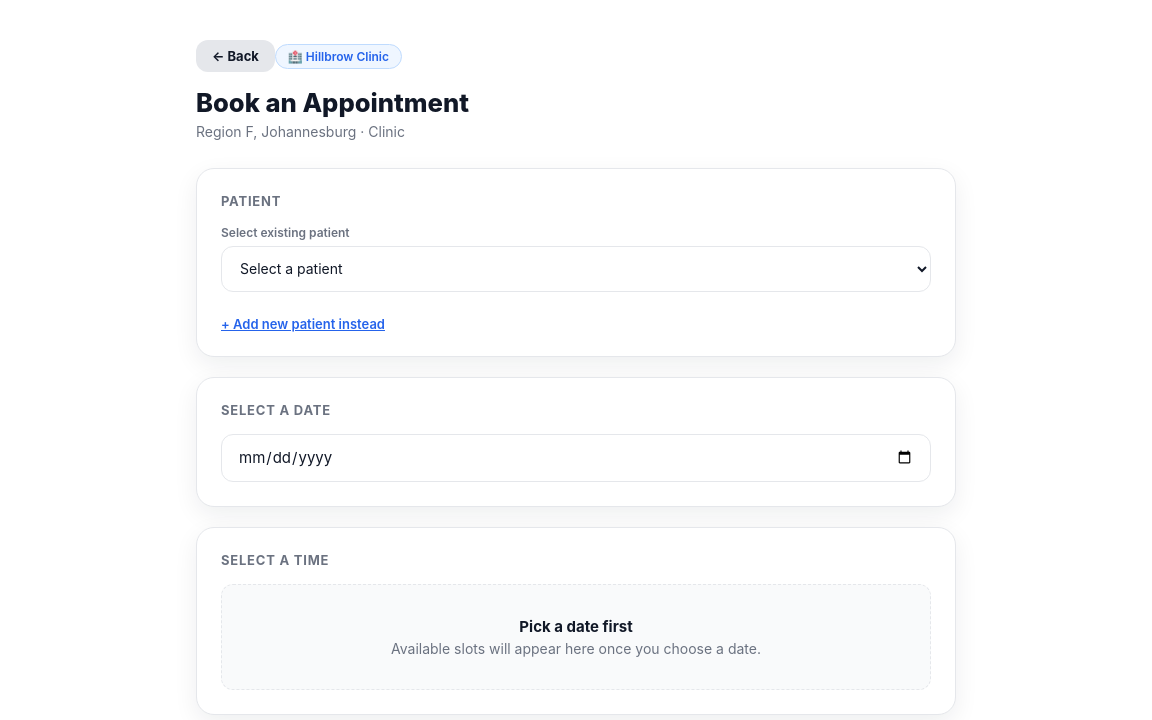
Scenario: BookingPage › opens confirmation popup when staff booking details are complete
Step 1. Select "Jane Doe (Patient)" in the dropdown labelled "Select existing patient" → (576, 269), box [221,246,931,292]
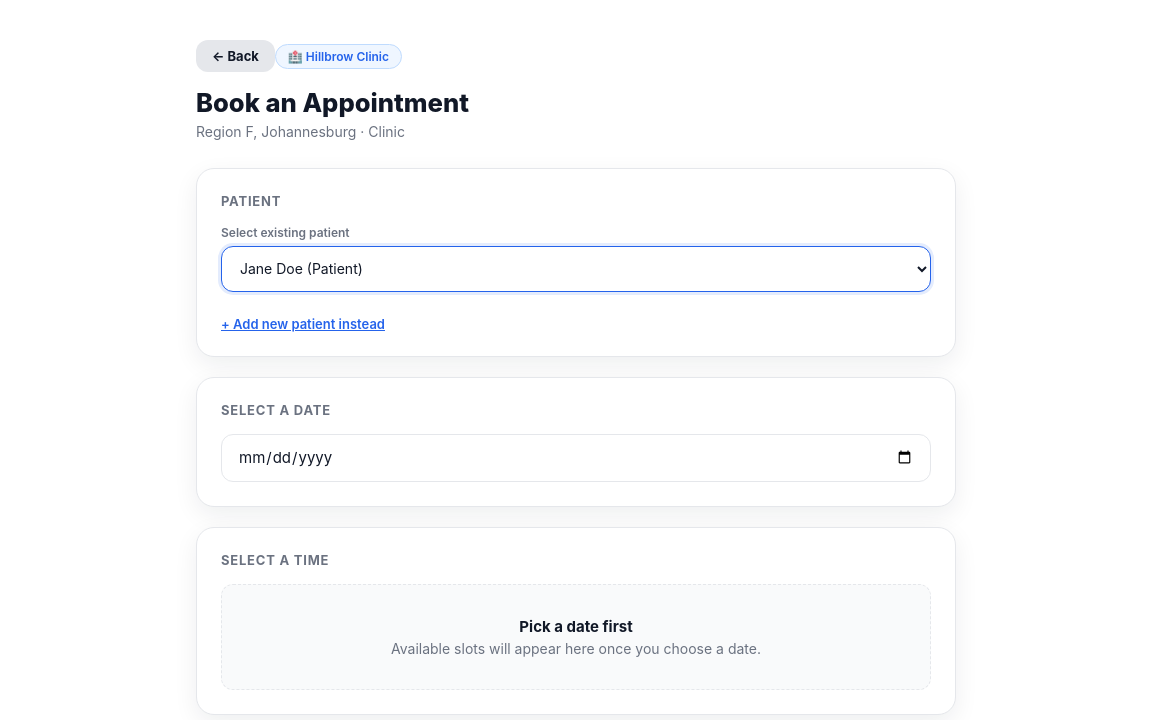
Step 2. Type "2099-05-10" into the date field named "Appointment date" → (576, 458), box [221,434,931,482]
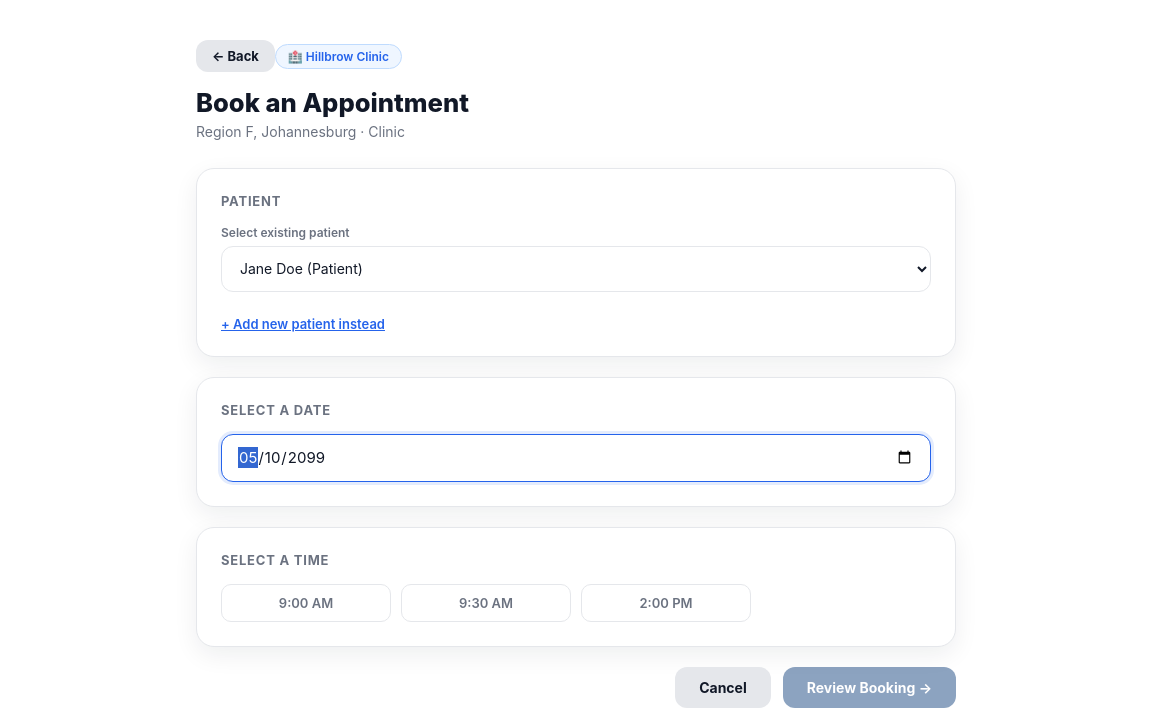
Step 3. Click the button "9:00 AM" → (306, 603), box [221,584,391,622]
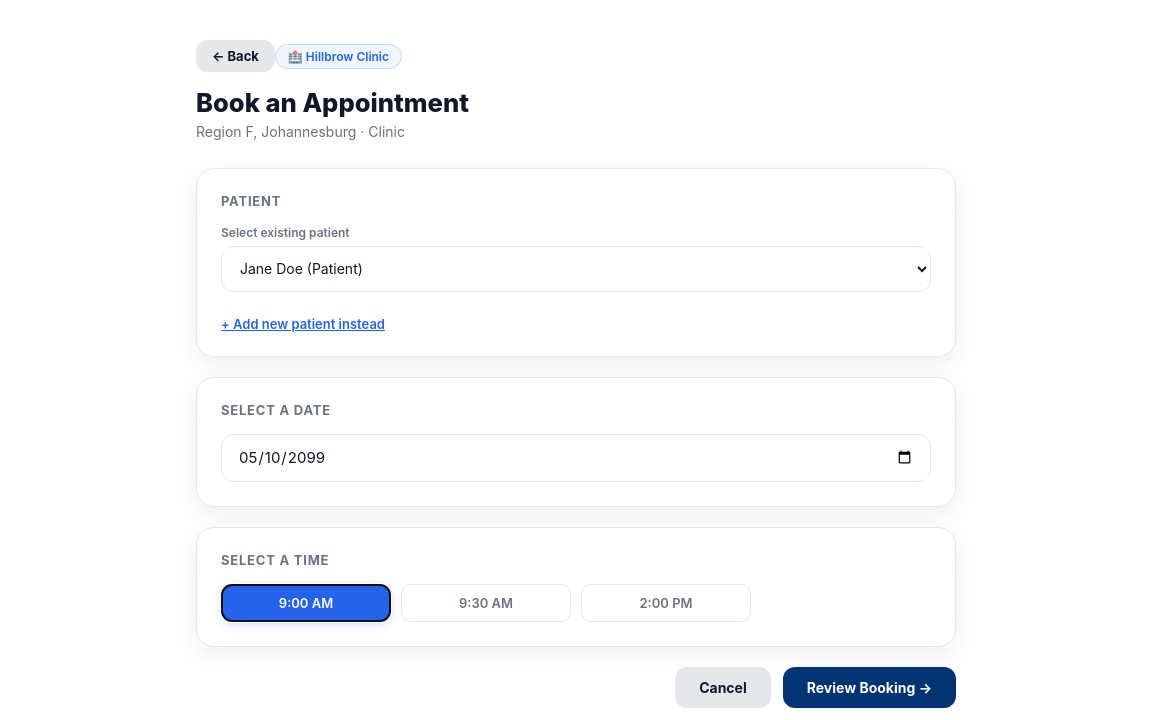
Step 4. Click the button "Review Booking →" → (869, 687), box [783,667,956,708]
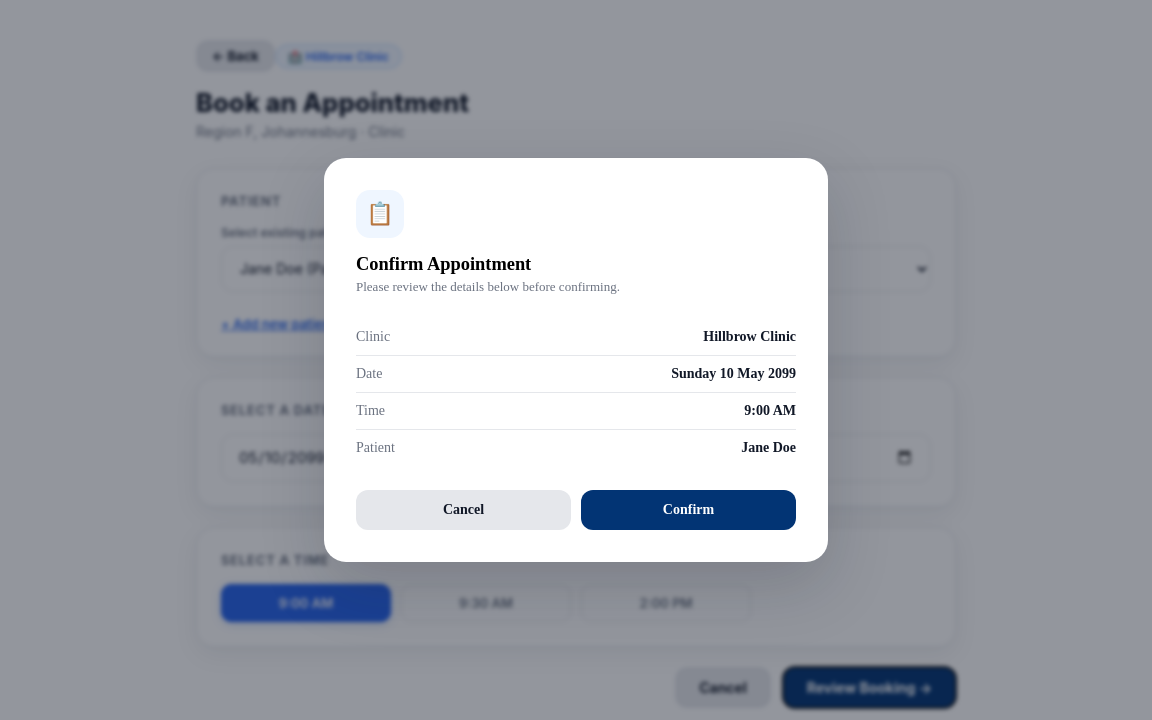
Expected: the dialog is shown
Expected: the heading "Confirm Appointment" is shown, [356,254,531,274]
